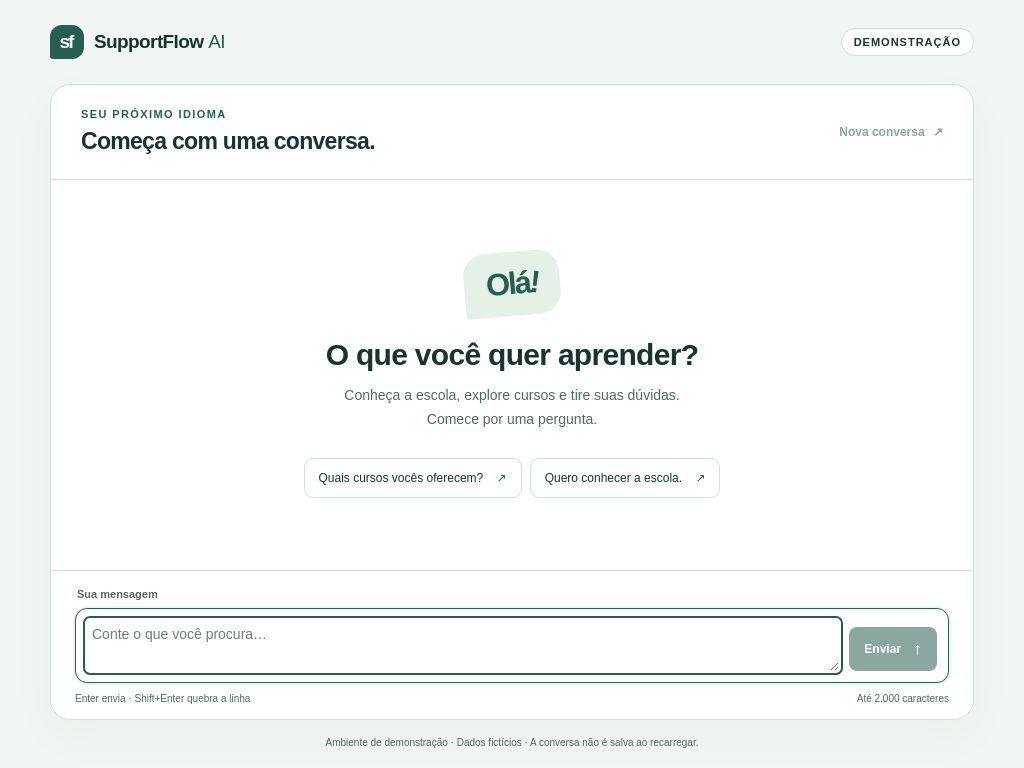
Scenario: solicitação local apresentada pelos results oficiais › preserva prévia existente e não confirma cadastro durante o handoff
The width and height of the screenshot is (1024, 768).
Type "Quero cadastrar." into the text box labelled "Sua mensagem" at (463, 646), box [87, 620, 839, 671]
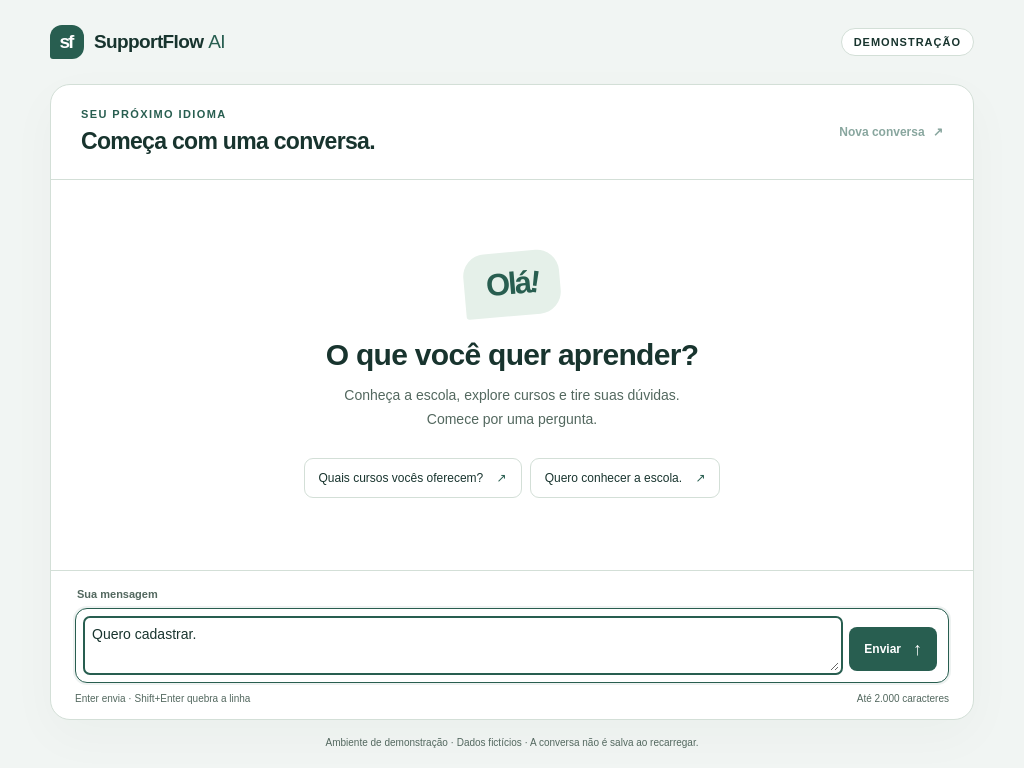
Submit the form named "Enviar mensagem", box [75, 588, 949, 704]
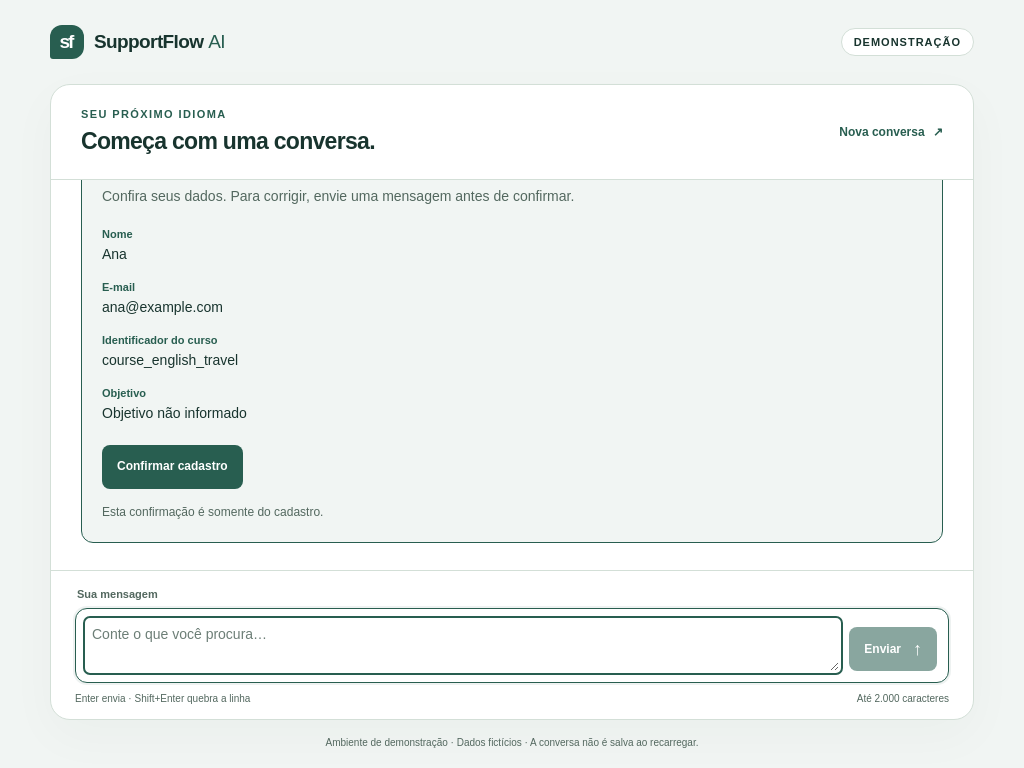
Type "Não quero me cadastrar agora. Prefiro falar com uma pessoa." into the text box labelled "Sua mensagem" at (463, 646), box [87, 620, 839, 671]
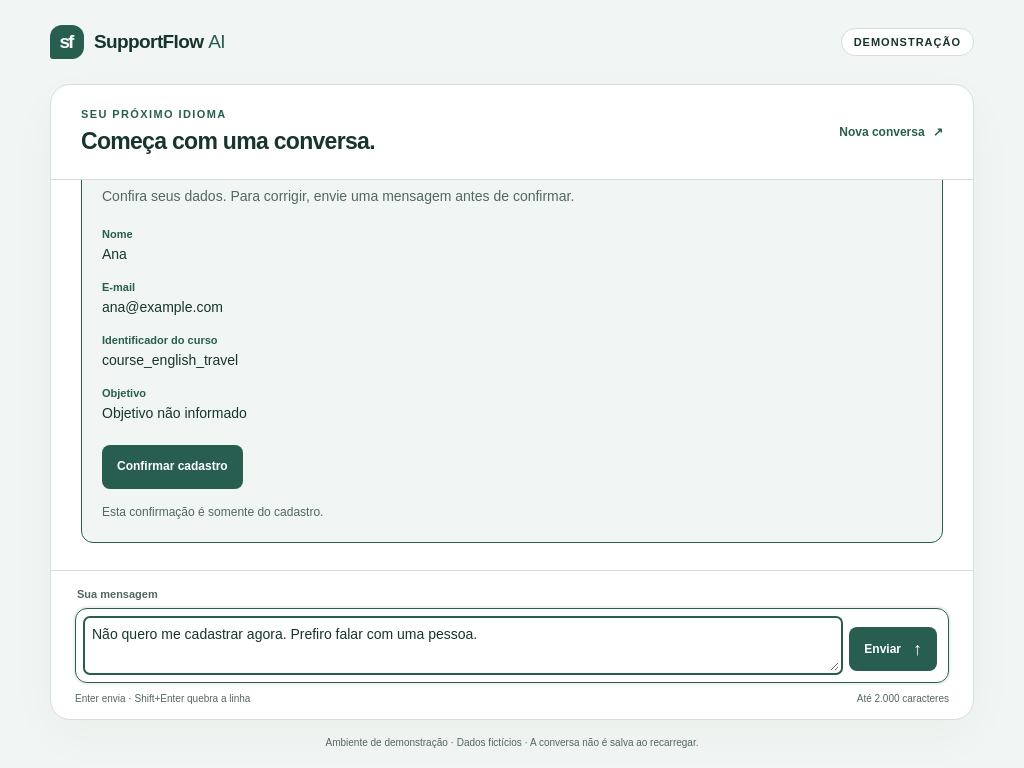
Submit the form named "Enviar mensagem", box [75, 588, 949, 704]
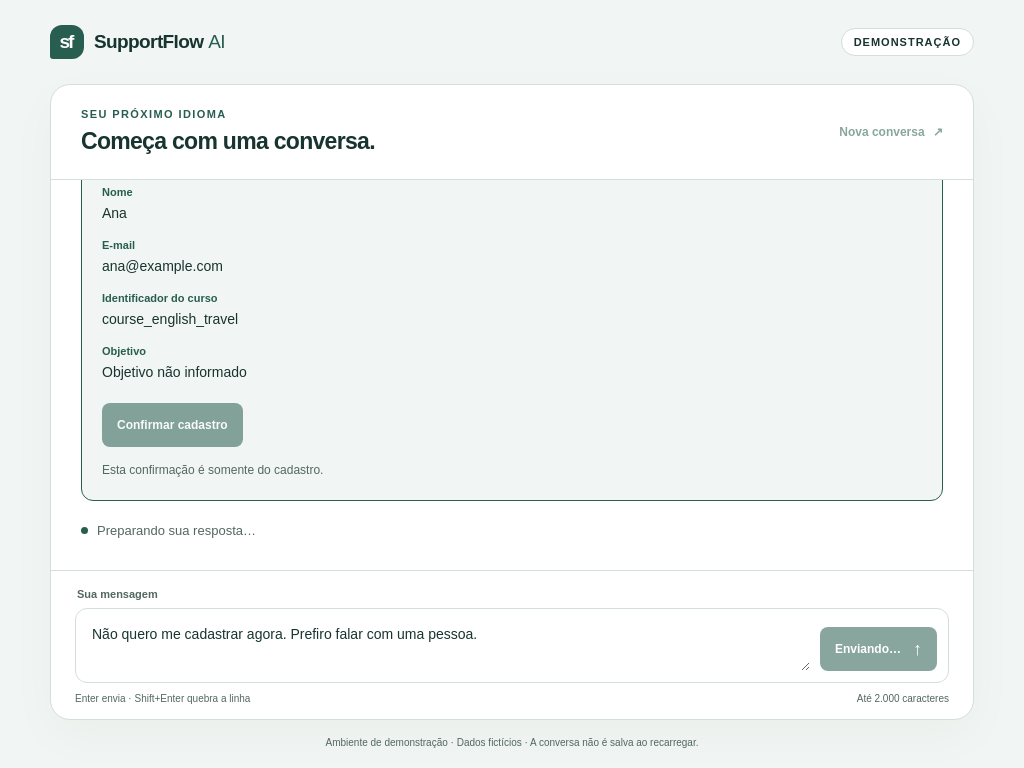
Expected: the button "Confirmar cadastro" is disabled
Click the button "Confirmar cadastro" at (172, 425), box [102, 403, 243, 447]
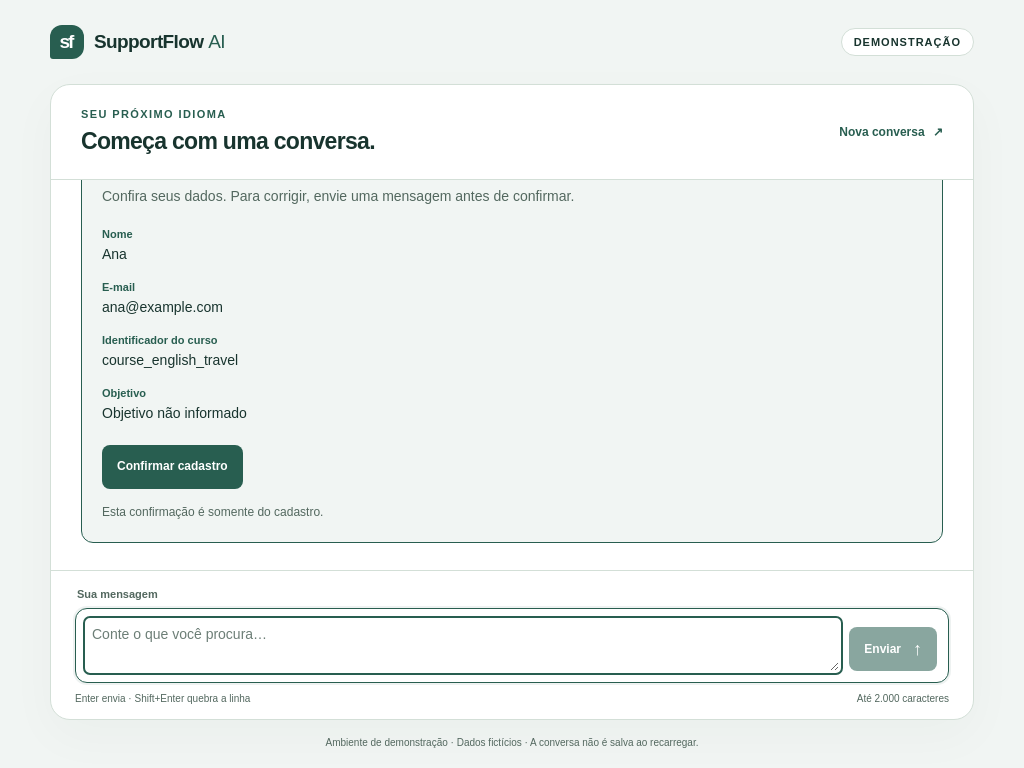
Expected: the number of buttons "Confirmar cadastro" is 1, [102, 445, 243, 489]
Expected: the element "Revisar cadastro" shows "ana@example.com", [102, 299, 223, 315]
Expected: the button "Confirmar cadastro" is enabled, [102, 445, 243, 489]
